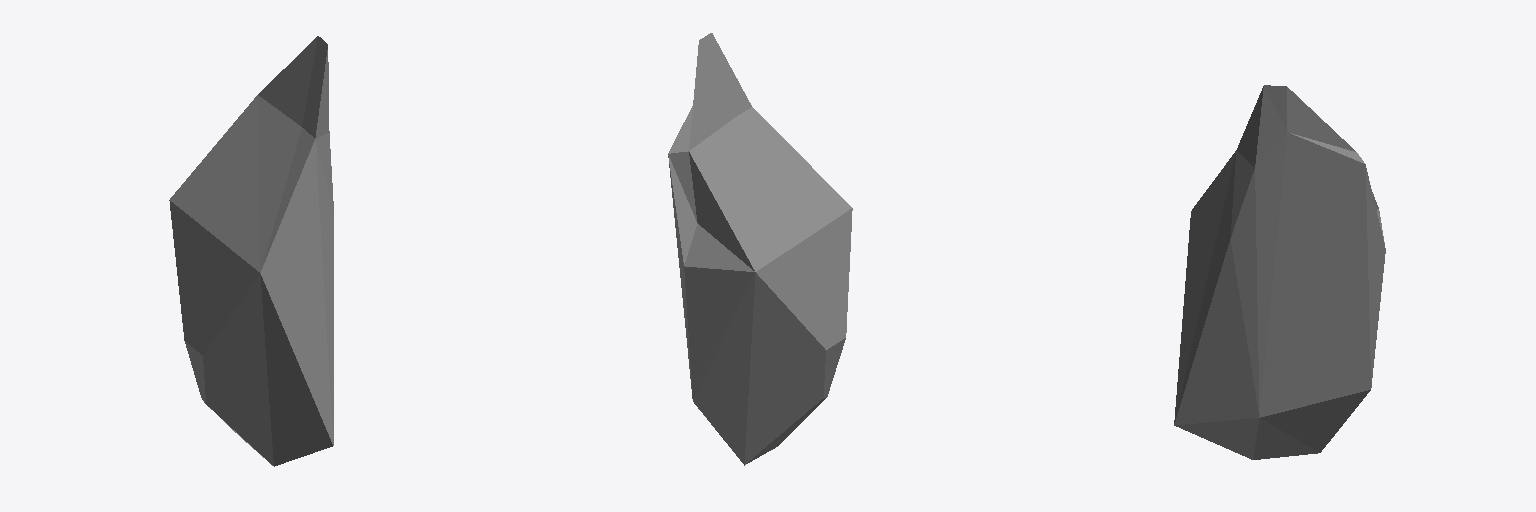
The picture shows the model from 3 angles: view 1: azimuth 30°, elevation 25°; view 2: azimuth 150°, elevation 25°; view 3: azimuth 270°, elevation 25°; orthographic projection.
Visible parts, largest first — view 1: mini2; view 2: mini2; view 3: mini2.
Boxes of the visible parts, <box> form: mini2: <box>169,36,333,466</box>; mini2: <box>668,33,852,465</box>; mini2: <box>1174,85,1385,459</box>.
Bounding box in the file's own units: 0.6594 × 1.94 × 0.9208.